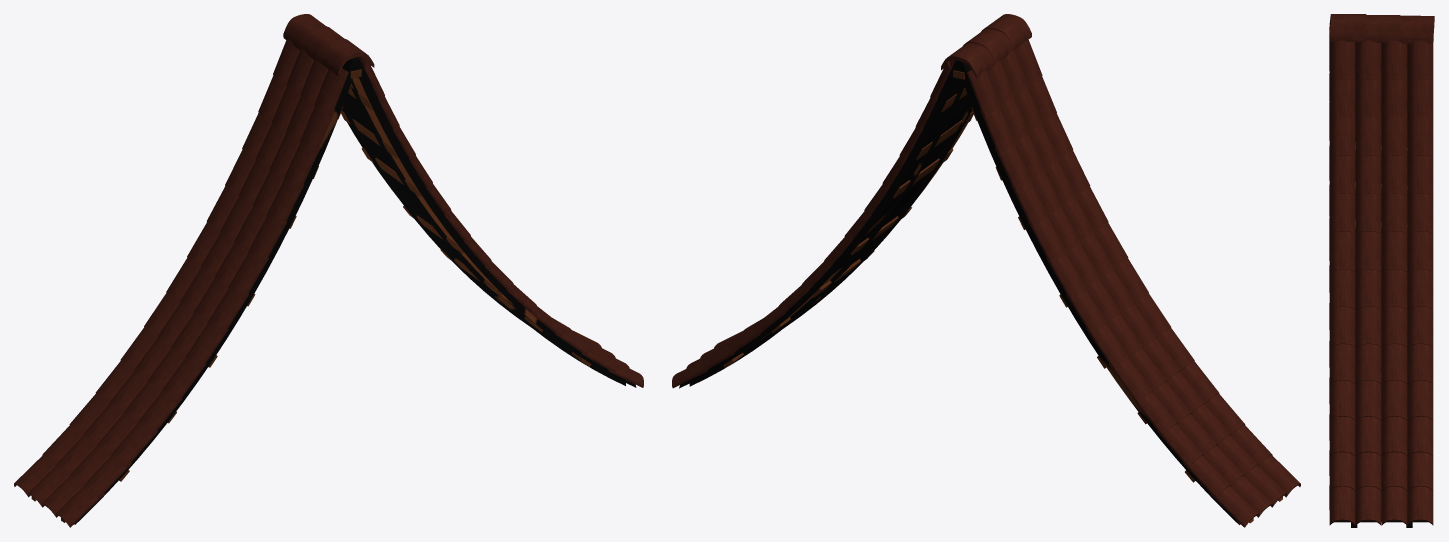
File: L_Roof_NoFrame_002.fbx
3 renders of one model, left to right at view 1: azimuth 30°, elevation 25°; view 2: azimuth 150°, elevation 25°; view 3: azimuth 270°, elevation 25°, orthographic. The views are drawn at different scales.
Parts seen in each view (by area): view 1: s roof mesh for normals.325, L_Roof_NoFrame.002, Cube.125; view 2: s roof mesh for normals.325, L_Roof_NoFrame.002, Cube.125; view 3: s roof mesh for normals.325, L_Roof_NoFrame.002.
Boxes of the visible parts, <box> form: s roof mesh for normals.325: <box>14,14,643,527</box>; L_Roof_NoFrame.002: <box>31,57,636,524</box>; Cube.125: <box>119,69,591,481</box>; s roof mesh for normals.325: <box>672,14,1300,527</box>; L_Roof_NoFrame.002: <box>679,60,1282,524</box>; Cube.125: <box>723,70,1195,482</box>; s roof mesh for normals.325: <box>1329,14,1434,525</box>; L_Roof_NoFrame.002: <box>1335,65,1427,527</box>.
Size of the model in its own units: 1292 by 870 by 217.
